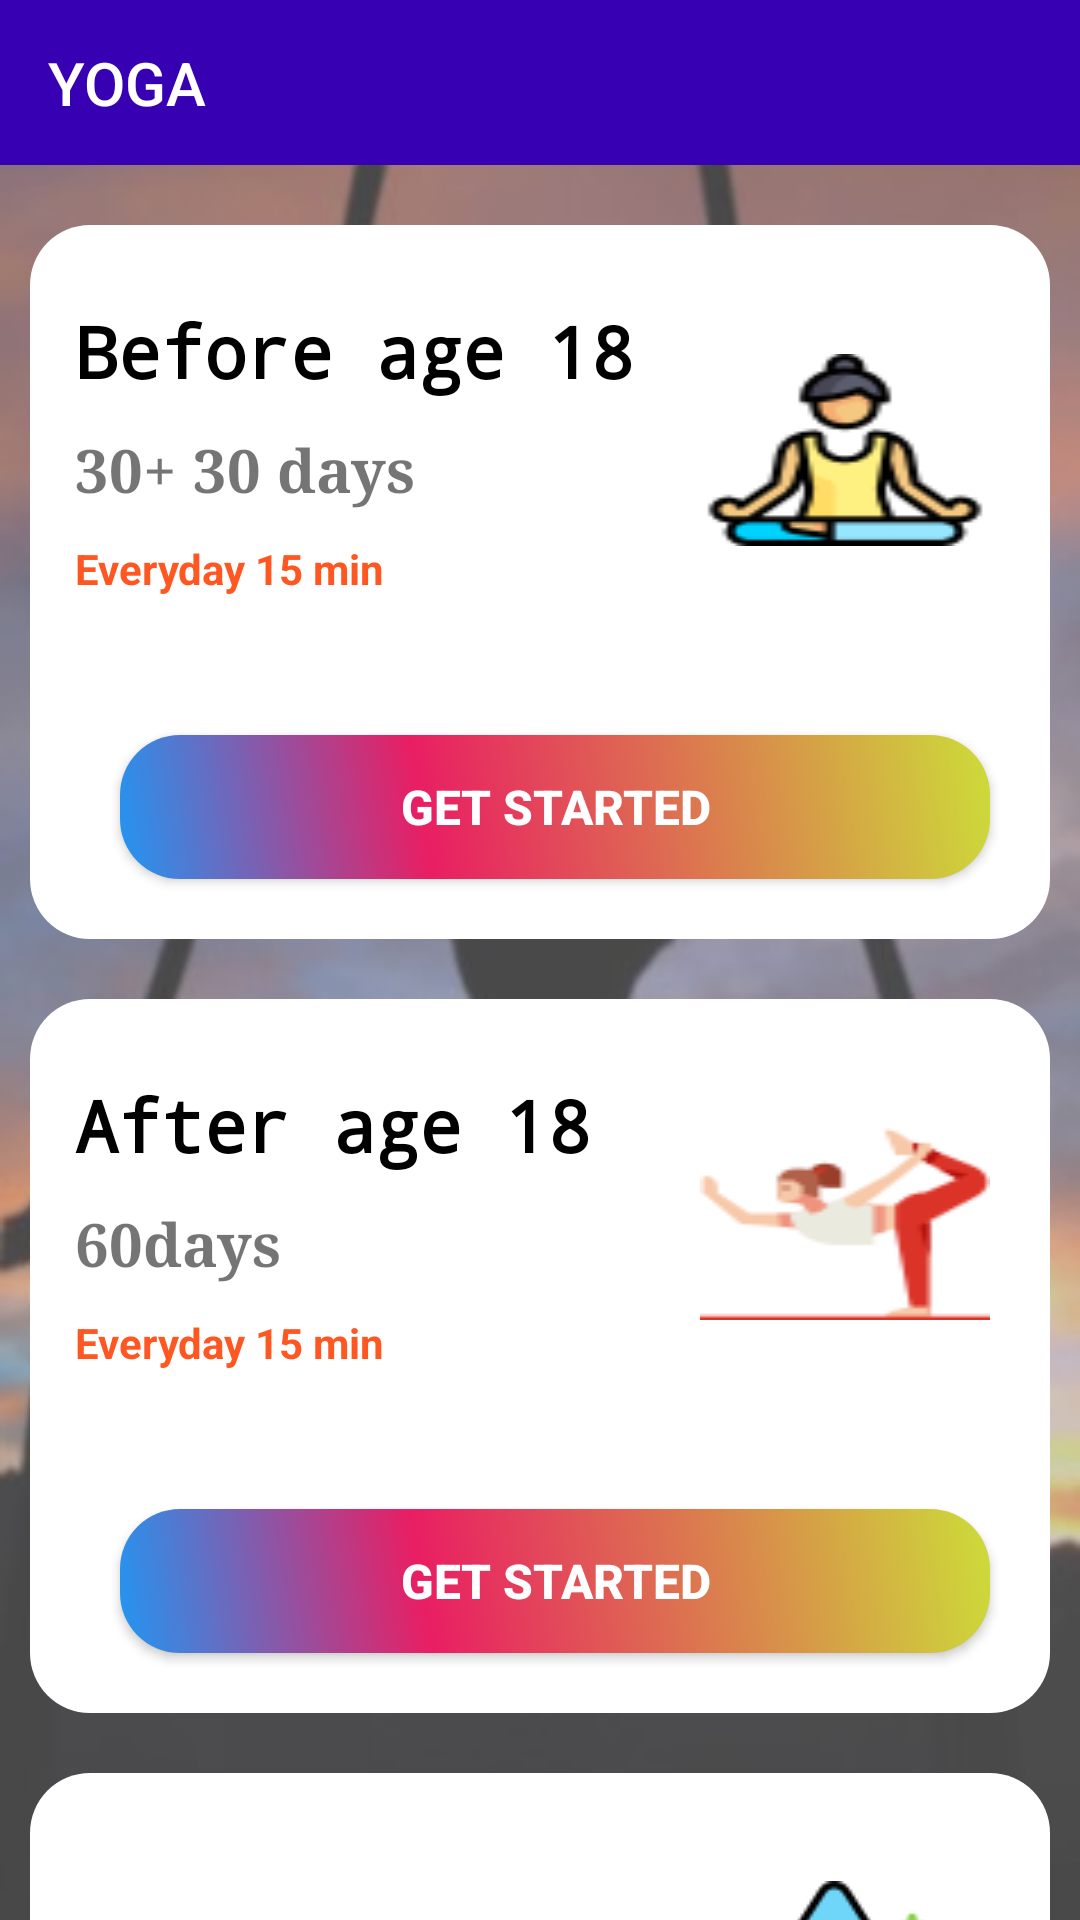

Icons on this 1080*1920 Android screen, each with its box as Rect(x1, y1, x2, y2):
yoga: Rect(707, 354, 983, 546), Rect(700, 1130, 990, 1320)
